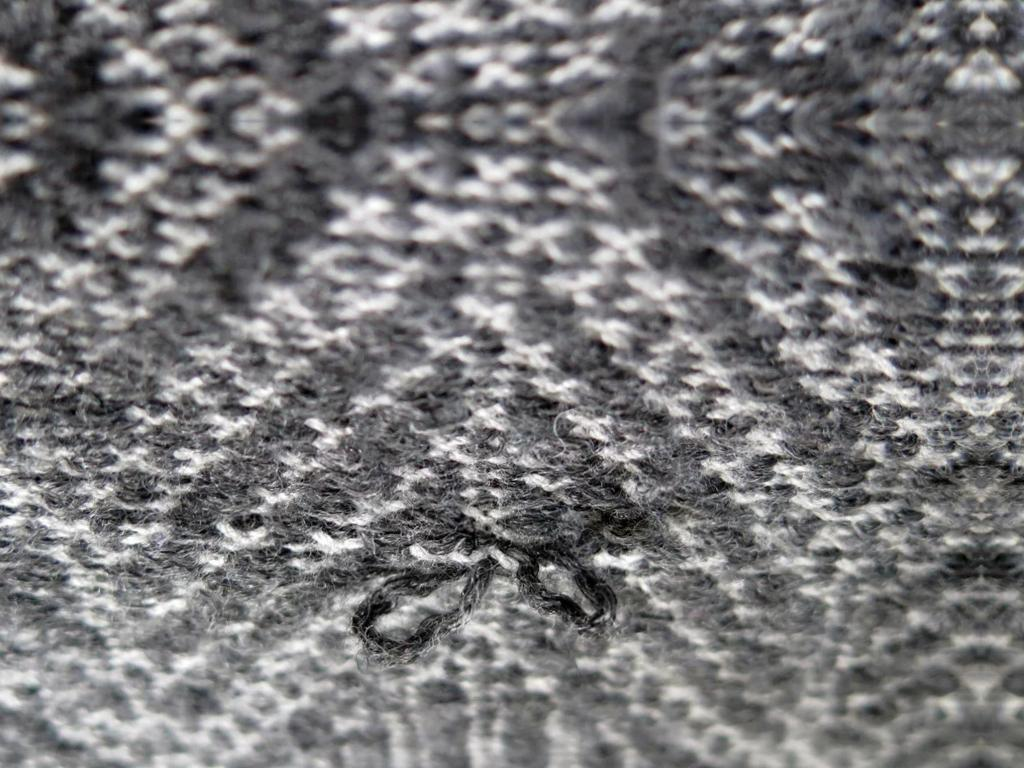snag: (344, 546, 497, 674), (510, 527, 636, 647)
